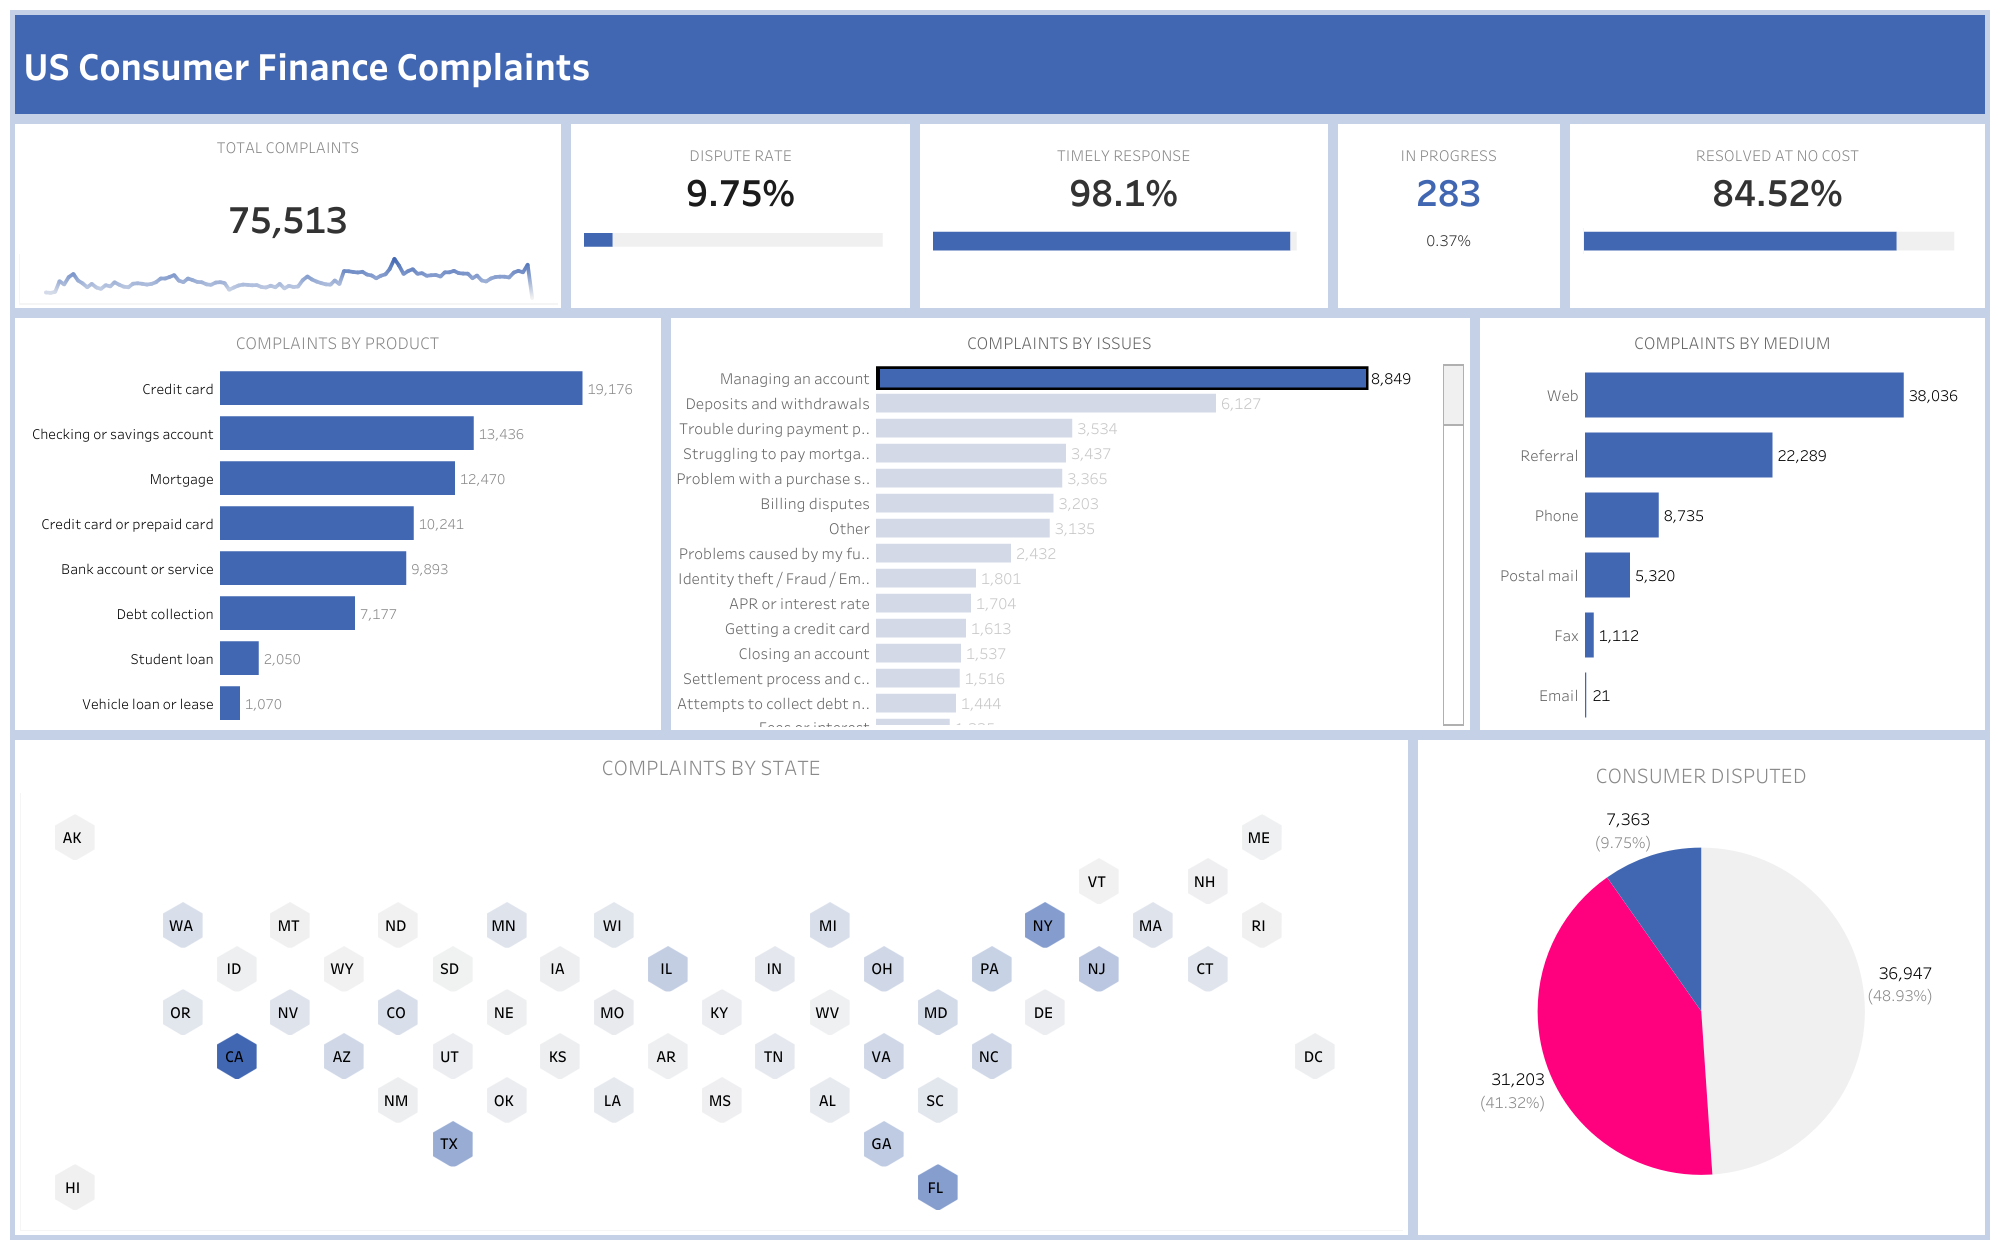

What the dashboard file says about the page in this screenshot:
{"tool":"tableau","page":{"name":"OVERVIEW","canvas":[1600,1000],"ordinal":0},"visuals":[{"type":"text","box":[8,8,1584,87]},{"type":"image","box":[1395,29,36,41]},{"type":"image","box":[1464,29,36,41]},{"type":"image","box":[1534,29,36,41]},{"type":"worksheet","title":"TOTAL COMPLAINTS","mark":"Automatic","rows":["Financial Consumer Complaints.csv_523B13753D174E0797AFF695D6"],"cols":["Date Sumbited"],"box":[8,95,445,155]},{"type":"worksheet","title":"DISPUTE RATE","mark":"Bar","box":[453,95,279,155]},{"type":"worksheet","title":"TIMELY RESPONSE","mark":"Bar","box":[732,95,334,155]},{"type":"worksheet","title":"IN PROGRESS","mark":"Automatic","box":[1066,95,186,155]},{"type":"worksheet","title":"RESOLVED AT NO COST","mark":"Bar","box":[1252,95,340,155]},{"type":"worksheet","title":"COMPLAINTS BY PRODUCT","mark":"Automatic","rows":["Product"],"cols":["Financial Consumer Complaints.csv_523B13753D174E0797AFF695D6"],"box":[8,249.9,525,338]},{"type":"worksheet","title":"COMPLAINTS BY ISSUES","mark":"Automatic","rows":["Issue"],"cols":["Financial Consumer Complaints.csv_523B13753D174E0797AFF695D6"],"box":[533,249.9,647,338]},{"type":"worksheet","title":"COMPLAINTS BY MEDIUM","mark":"Automatic","rows":["Submitted via"],"cols":["Financial Consumer Complaints.csv_523B13753D174E0797AFF695D6"],"box":[1180,249.9,412,338]},{"type":"worksheet","title":"COMPLAINTS BY STATE","mark":"Automatic","rows":["Row"],"cols":["Column"],"box":[8,587.9,1122,404.1]},{"type":"worksheet","title":"CONSUMER DISPUTED","mark":"Pie","box":[1130,587.9,462,404.1]}]}

Visuals, with their boxes in screenshot pixels (x1, y1, x2, y2), scaled from the page's 1600x1000 canvas onto the 1999x1249 screenshot:
text: {"x1": 10, "y1": 10, "x2": 1989, "y2": 119}
image: {"x1": 1743, "y1": 36, "x2": 1788, "y2": 87}
image: {"x1": 1829, "y1": 36, "x2": 1874, "y2": 87}
image: {"x1": 1917, "y1": 36, "x2": 1962, "y2": 87}
"TOTAL COMPLAINTS" worksheet: {"x1": 10, "y1": 119, "x2": 566, "y2": 312}
"DISPUTE RATE" worksheet (Bar marks): {"x1": 566, "y1": 119, "x2": 915, "y2": 312}
"TIMELY RESPONSE" worksheet (Bar marks): {"x1": 915, "y1": 119, "x2": 1332, "y2": 312}
"IN PROGRESS" worksheet: {"x1": 1332, "y1": 119, "x2": 1564, "y2": 312}
"RESOLVED AT NO COST" worksheet (Bar marks): {"x1": 1564, "y1": 119, "x2": 1989, "y2": 312}
"COMPLAINTS BY PRODUCT" worksheet: {"x1": 10, "y1": 312, "x2": 666, "y2": 734}
"COMPLAINTS BY ISSUES" worksheet: {"x1": 666, "y1": 312, "x2": 1474, "y2": 734}
"COMPLAINTS BY MEDIUM" worksheet: {"x1": 1474, "y1": 312, "x2": 1989, "y2": 734}
"COMPLAINTS BY STATE" worksheet: {"x1": 10, "y1": 734, "x2": 1412, "y2": 1239}
"CONSUMER DISPUTED" worksheet (Pie marks): {"x1": 1412, "y1": 734, "x2": 1989, "y2": 1239}
